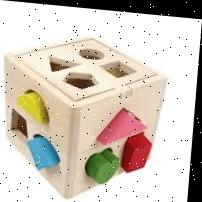cube: (0, 30, 170, 202)
